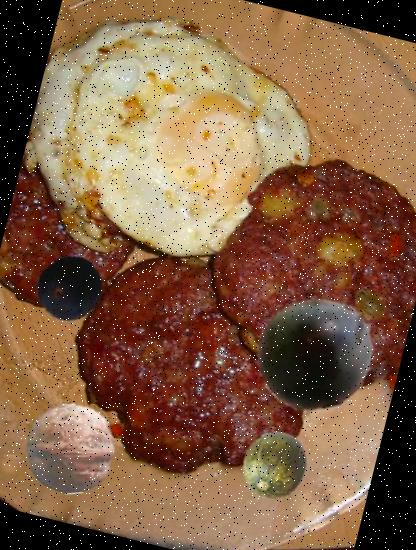Grape: (30, 248, 112, 330)
Melon: (234, 424, 318, 508)
Plum: (244, 282, 388, 427)
Walnut: (16, 394, 126, 504)
